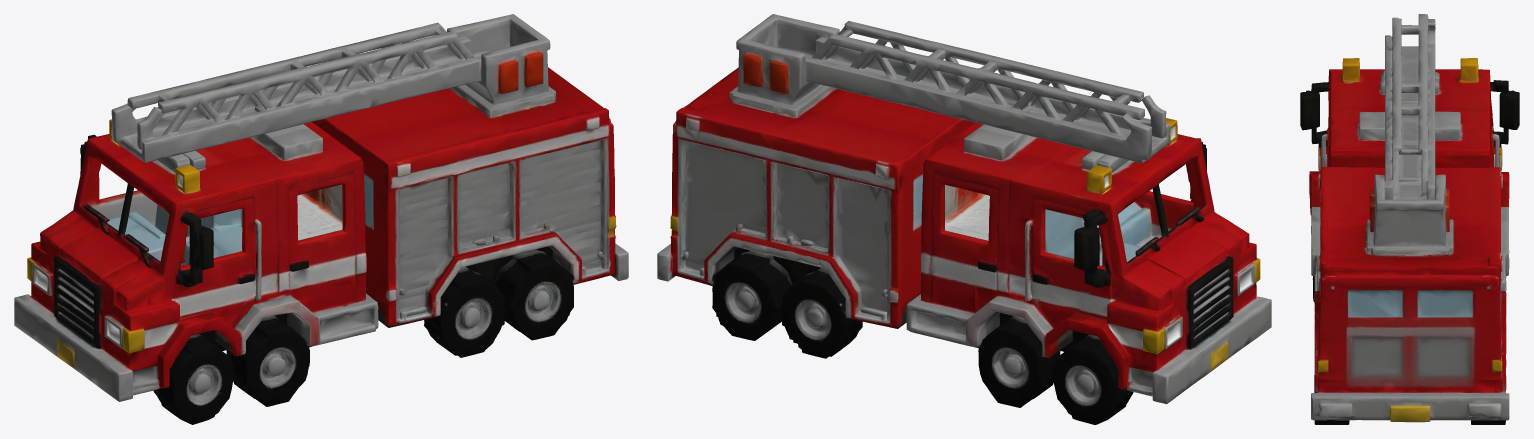
File: fire_truck.glb
3 renders of one model, left to right at view 1: azimuth 30°, elevation 25°; view 2: azimuth 150°, elevation 25°; view 3: azimuth 270°, elevation 25°, orthographic. The views are drawn at different scales.
Visible parts, largest first — view 1: geometry_0; view 2: geometry_0; view 3: geometry_0.
Boxes of the visible parts, left/top/right/bottom form: geometry_0: left=14, top=14, right=628, bottom=424; geometry_0: left=657, top=14, right=1271, bottom=424; geometry_0: left=1300, top=14, right=1519, bottom=424.
Size of the model in its own units: 8 by 4.26 by 3.31.
1 material, 1 textured.
